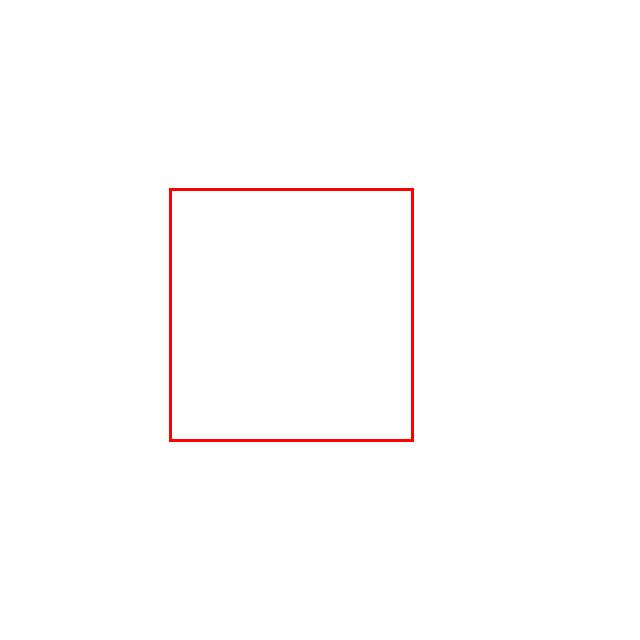Sprite: (169, 188, 413, 441)
